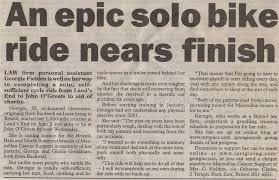Printing industry: (0, 1, 279, 180)
